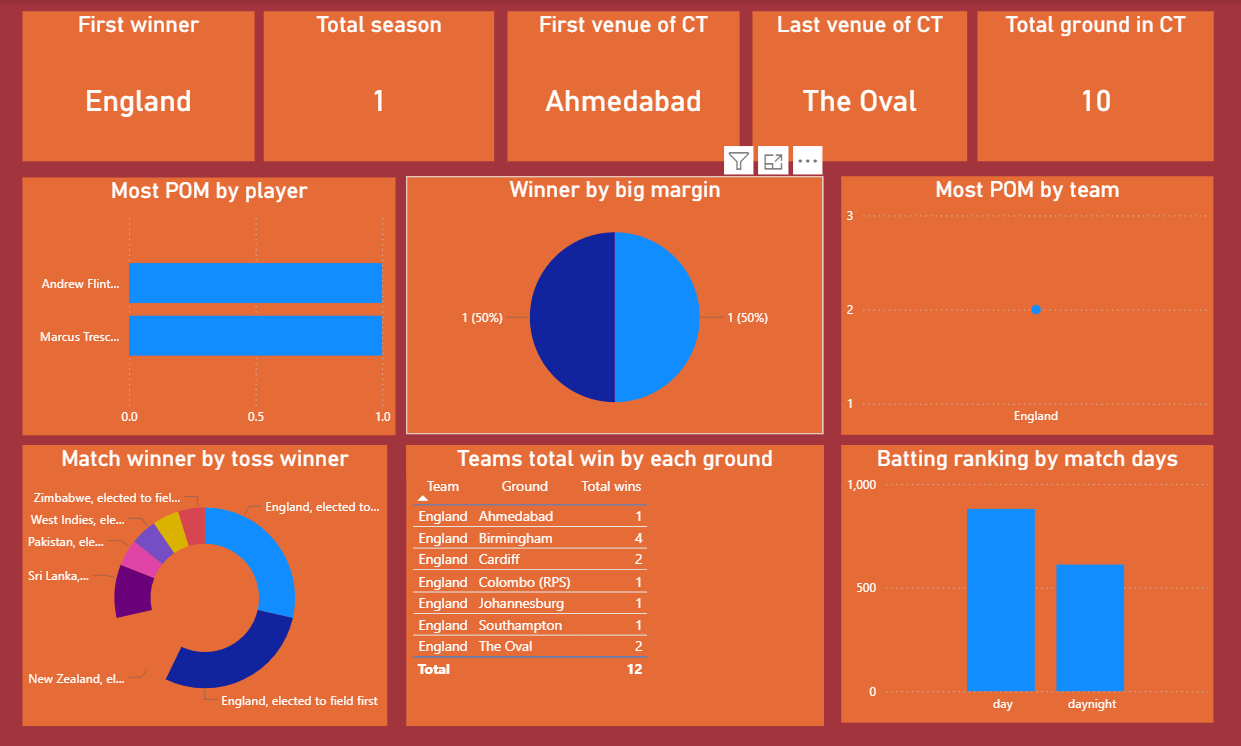

What the dashboard file says about the page in this screenshot:
{"tool":"powerbi","page":{"name":"Page 2","canvas":[1280,720],"ordinal":1},"visuals":[{"type":"card","title":"First winner of CT","fields":{"Values":["Max(all_champions_trophy_matches_results-updated.Winner)"]},"box":[50.1,11.1,224,144.7],"z":0},{"type":"card","title":"Last venue of CT","fields":{"Values":["Max(all_champions_trophy_matches_results-updated.Ground)"]},"box":[755.5,11.1,207.3,144.7],"z":1000},{"type":"card","title":"First venue of CT","fields":{"Values":["Min(all_champions_trophy_matches_results-updated.Ground)"]},"box":[519,11.1,224,144.7],"z":2000},{"type":"card","title":"Total season","fields":{"Values":["Count(all_champions_trophy_players_list.Year)"]},"box":[283.8,11.1,222.6,144.7],"z":3000},{"type":"card","title":"Total ground in CT","fields":{"Values":["all_champions_trophy_matches_results-updated.Total ground"]},"box":[972.5,11.1,228.2,144.7],"z":4000},{"type":"pieChart","title":"Winner by big margin","fields":{"Category":["all_champions_trophy_matches_results-updated.Margin"],"Y":["CountNonNull(all_champions_trophy_matches_results-updated.Winner)"]},"box":[421,170.1,403,248.5],"z":5000},{"type":"barChart","title":"Most POM by player","fields":{"Category":["all_champions_trophy_players_list.Player Name"],"Y":["all_champions_trophy_matches_results-updated.Total POM"]},"box":[50.1,171.1,360.3,249],"z":6000},{"type":"clusteredColumnChart","title":"Batting ranking by  match days","fields":{"Category":["all_champions_trophy_matches_results-updated.Match days"],"Y":["Sum(all_champions_trophy_matches_results-updated.Team1 Avg Batting Ranking)"]},"box":[840.9,429.5,359.5,267.8],"z":7000},{"type":"tableEx","title":"Teams total win by each  ground","fields":{"Values":["all_champions_trophy_players_list.Team","all_champions_trophy_matches_results-updated.Ground","all_champions_trophy_matches_results-updated.Total wins"]},"box":[421,429.5,403,271.4],"z":8000},{"type":"donutChart","title":"Match winner by toss winner","fields":{"Category":["all_champions_trophy_matches_results-updated.Toss"],"Y":["CountNonNull(all_champions_trophy_matches_results-updated.Winner)"]},"box":[50.7,429.5,352.3,271.4],"z":10000},{"type":"stackedAreaChart","title":"Most POM by team","fields":{"Category":["all_champions_trophy_players_list.Team"],"Y":["all_champions_trophy_matches_results-updated.Total POM"]},"box":[840.9,170.1,359.5,249.7],"z":11000}]}

Visuals, with their boxes in screenshot pixels (x1, y1, x2, y2):
"First winner of CT" card: x1=26 y1=11 x2=256 y2=160
"Last venue of CT" card: x1=751 y1=11 x2=964 y2=160
"First venue of CT" card: x1=508 y1=11 x2=738 y2=160
"Total season" card: x1=266 y1=11 x2=495 y2=160
"Total ground in CT" card: x1=974 y1=11 x2=1208 y2=160
"Winner by big margin" pieChart: x1=407 y1=175 x2=821 y2=430
"Most POM by player" barChart: x1=26 y1=176 x2=396 y2=432
"Batting ranking by  match days" clusteredColumnChart: x1=838 y1=441 x2=1208 y2=717
"Teams total win by each  ground" tableEx: x1=407 y1=441 x2=821 y2=720
"Match winner by toss winner" donutChart: x1=26 y1=441 x2=388 y2=720
"Most POM by team" stackedAreaChart: x1=838 y1=175 x2=1208 y2=431
